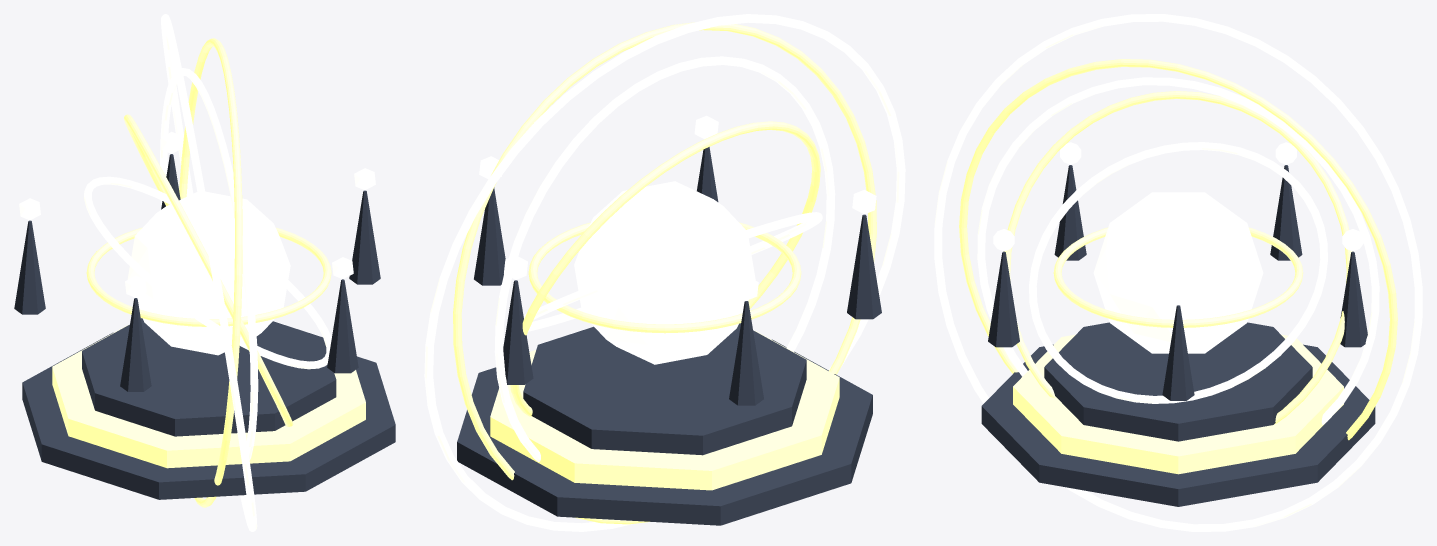
The model's file is gpu-blender-v35.glb.
3 renders of one model, left to right at view 1: azimuth 30°, elevation 25°; view 2: azimuth 150°, elevation 25°; view 3: azimuth 270°, elevation 25°, orthographic. The views are drawn at different scales.
Parts seen in each view (by area): view 1: Cylinder.002, Cylinder, SovereignCore_neuro-memory-daemon, Cylinder.001, Torus.005, Torus.004, Torus.001, Torus.003, Torus, Torus.002, Cone.004, Cone.002 (+2 smaller); view 2: Cylinder.002, SovereignCore_neuro-memory-daemon, Cylinder, Cylinder.001, Torus.005, Torus.003, Torus.004, Torus.002, Torus, Torus.001, Cone.003, Cone.002 (+3 smaller); view 3: SovereignCore_neuro-memory-daemon, Cylinder.002, Cylinder, Cylinder.001, Torus.005, Torus.004, Torus.001, Torus.003, Torus.002, Torus, Cone.004, Cone (+3 smaller).
Part boxes in pixels (left/top/right/bottom): Cylinder.002: left=82, top=318, right=336, bottom=436; Cylinder: left=22, top=332, right=395, bottom=499; SovereignCore_neuro-memory-daemon: left=127, top=191, right=290, bottom=355; Cylinder.001: left=52, top=325, right=365, bottom=468; Torus.005: left=161, top=14, right=257, bottom=531; Torus.004: left=179, top=38, right=242, bottom=507; Torus.001: left=84, top=176, right=331, bottom=369; Torus.003: left=160, top=68, right=258, bottom=459; Torus: left=86, top=227, right=331, bottom=326; Torus.002: left=124, top=114, right=293, bottom=426; Cone.004: left=327, top=279, right=358, bottom=373; Cone.002: left=14, top=220, right=45, bottom=314; Cylinder.002: left=523, top=323, right=806, bottom=455; SovereignCore_neuro-memory-daemon: left=574, top=181, right=755, bottom=364; Cylinder: left=457, top=339, right=872, bottom=525; Cylinder.001: left=490, top=330, right=839, bottom=490; Torus.005: left=424, top=14, right=905, bottom=531; Torus.003: left=494, top=56, right=835, bottom=461; Torus.004: left=453, top=22, right=876, bottom=524; Torus.002: left=510, top=121, right=820, bottom=416; Torus: left=528, top=222, right=801, bottom=333; Torus.001: left=523, top=212, right=822, bottom=331; Cone.003: left=847, top=214, right=881, bottom=319; Cone.002: left=729, top=301, right=763, bottom=405; SovereignCore_neuro-memory-daemon: left=1093, top=192, right=1263, bottom=353; Cylinder.002: left=1044, top=322, right=1312, bottom=441; Cylinder: left=981, top=344, right=1375, bottom=506; Cylinder.001: left=1013, top=334, right=1343, bottom=474; Torus.005: left=934, top=14, right=1422, bottom=531; Torus.004: left=959, top=59, right=1397, bottom=440; Torus.001: left=1029, top=142, right=1327, bottom=403; Torus.003: left=977, top=77, right=1379, bottom=424; Torus.002: left=1004, top=91, right=1352, bottom=423; Torus: left=1053, top=227, right=1303, bottom=327; Cone.004: left=988, top=251, right=1019, bottom=347; Cone: left=1162, top=305, right=1194, bottom=400.
Size of the model in its own units: 4.41 by 5.93 by 5.46.
